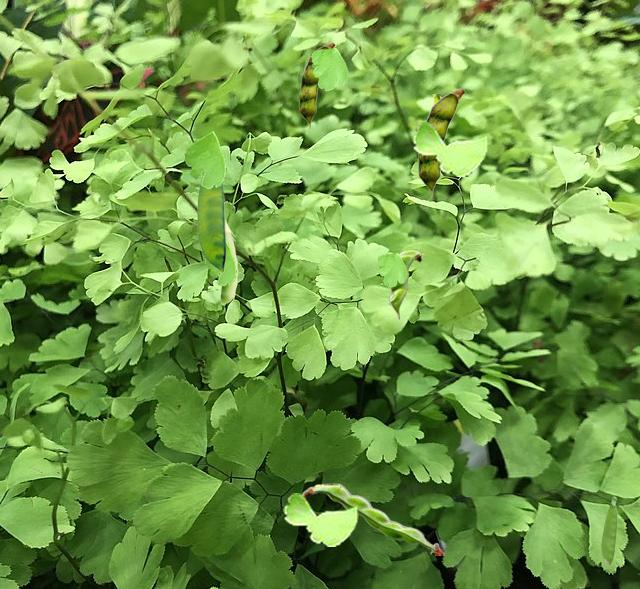pea: (302, 483, 444, 554), (418, 88, 464, 197), (299, 42, 334, 128), (388, 250, 423, 318), (197, 184, 224, 272), (220, 219, 236, 303), (601, 496, 616, 564), (432, 94, 442, 103)
